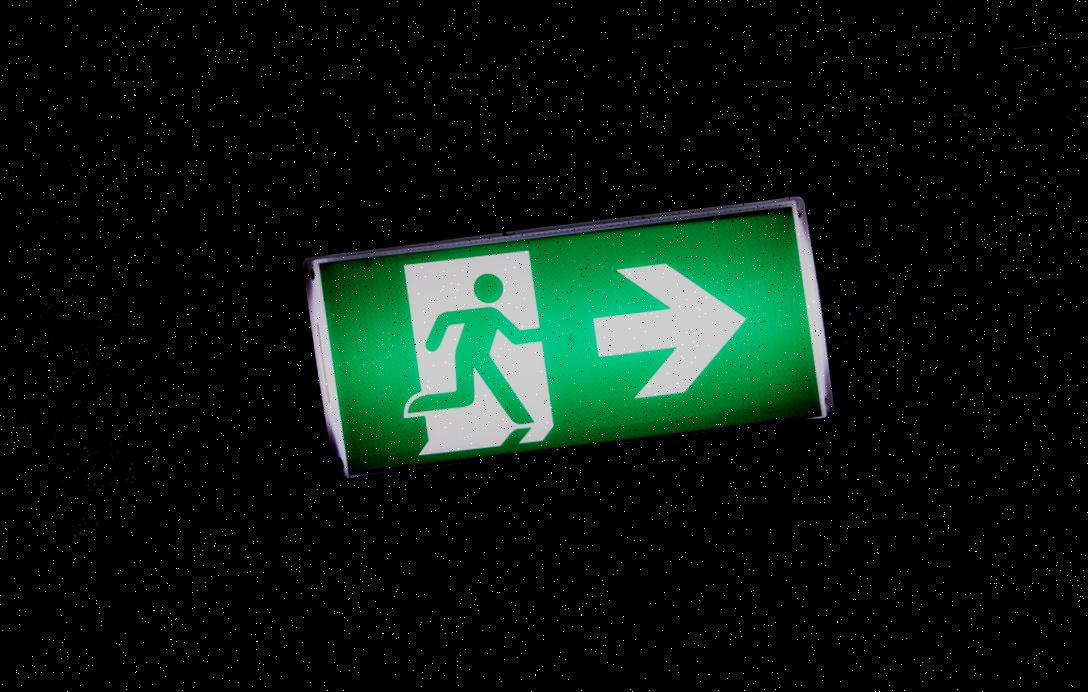emergency_exit: (303, 196, 834, 479)
